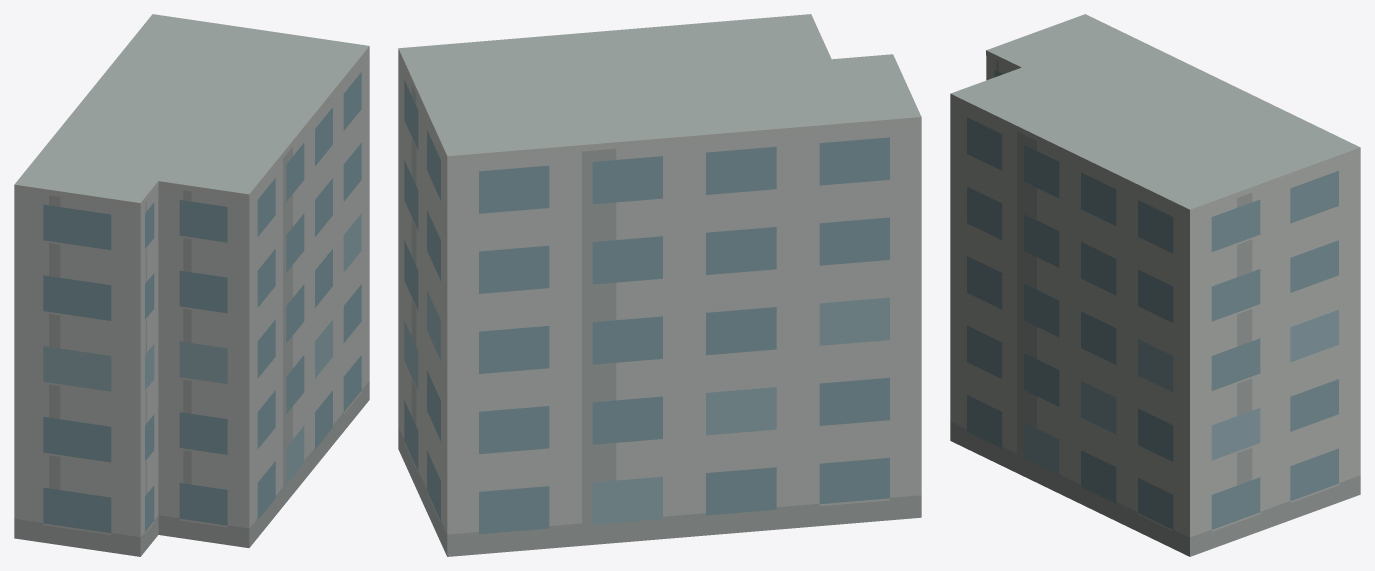
Rendered from survey-upis-32557509.glb.
The picture shows the model from 3 angles, left to right: view 1: azimuth 30°, elevation 25°; view 2: azimuth 150°, elevation 25°; view 3: azimuth 270°, elevation 25°; orthographic projection. The views are drawn at different scales.
Visible parts, largest first — view 1: survey-upis-32557509.tmp; view 2: survey-upis-32557509.tmp; view 3: survey-upis-32557509.tmp.
Part boxes in pixels (box(x1,y1,x2,y2)): survey-upis-32557509.tmp: box(14, 14, 369, 556); survey-upis-32557509.tmp: box(398, 14, 921, 556); survey-upis-32557509.tmp: box(950, 14, 1360, 556).
Size of the model in its own units: 18.44 by 15.25 by 16.34.
